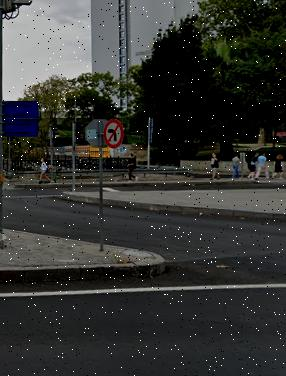leftturnsareforbidden: (106, 121, 123, 144)
